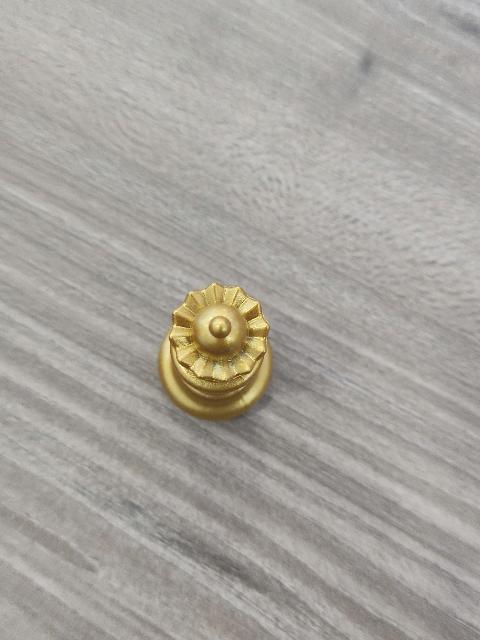black_king: (156, 279, 277, 424)
